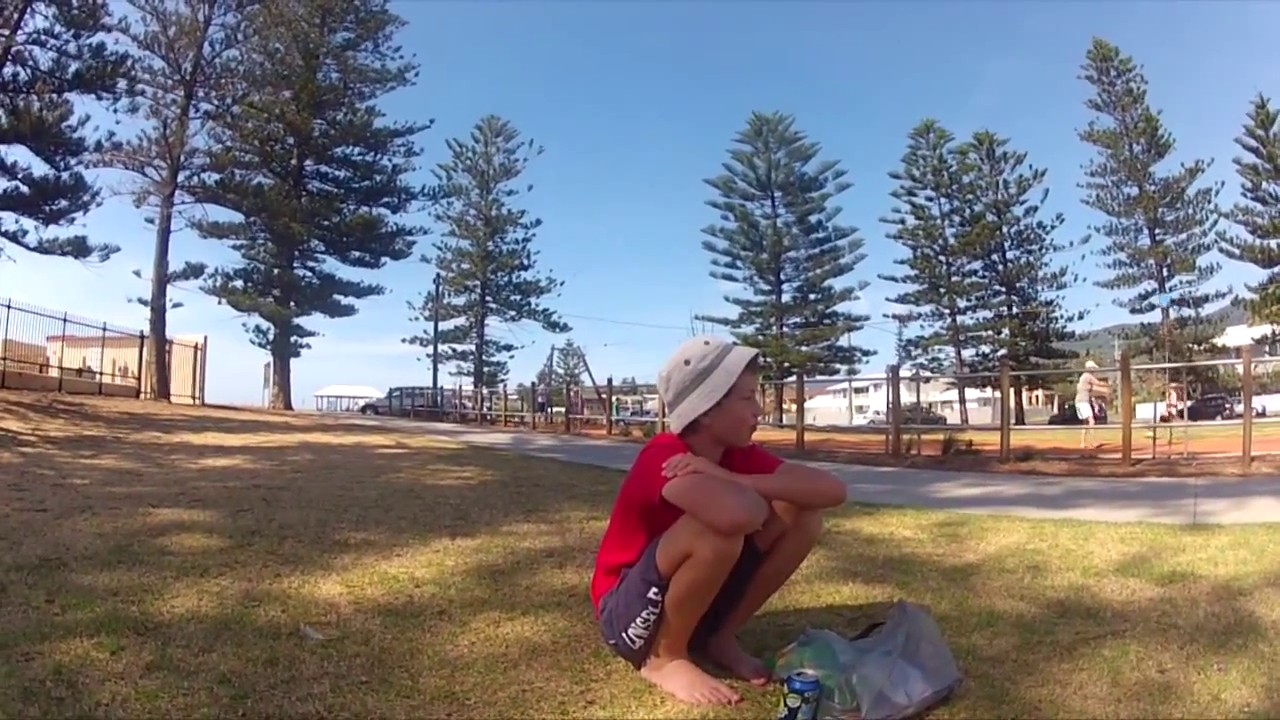person: (588, 332, 846, 706)
